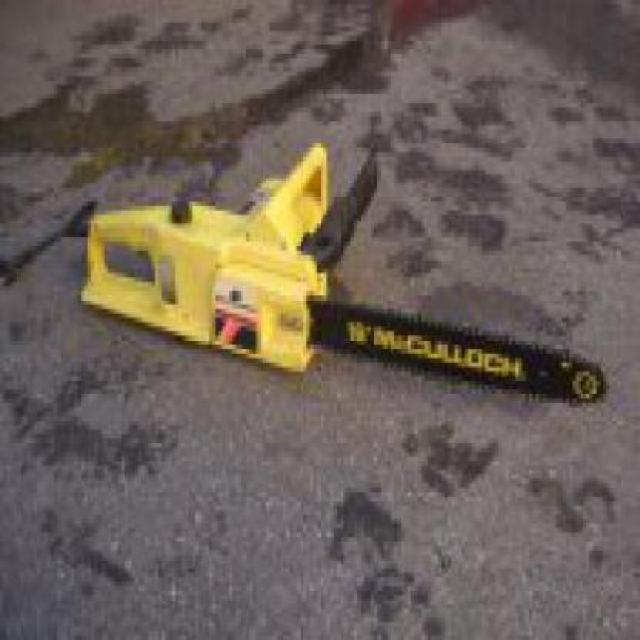Chainsaw: (77, 143, 612, 412)
